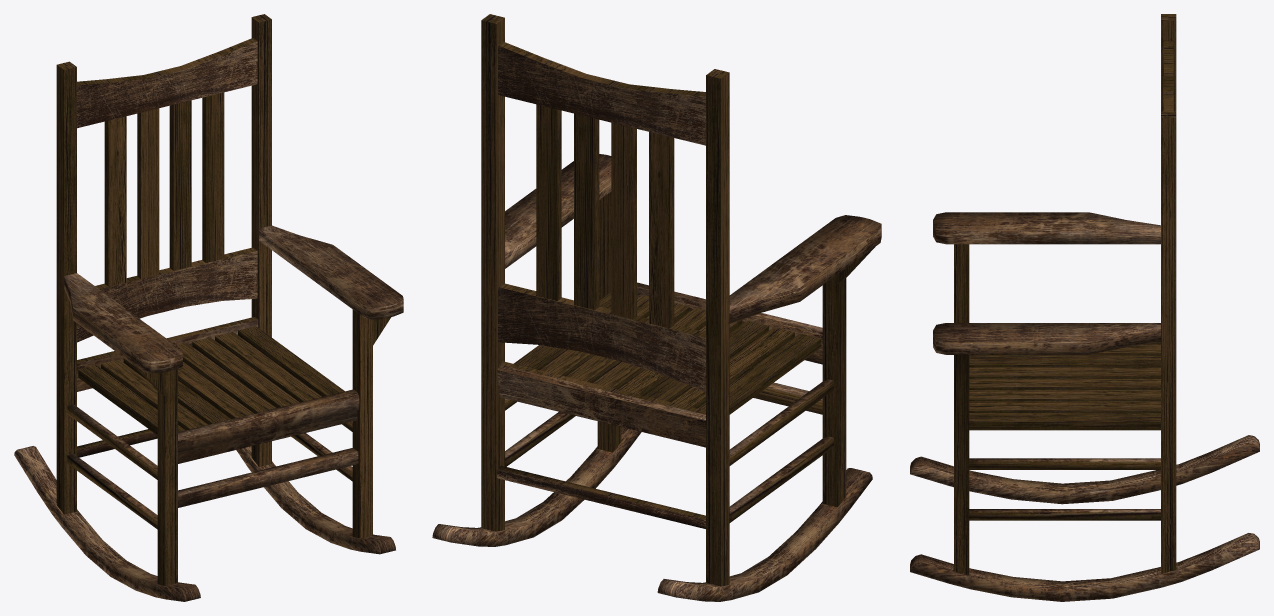
The model's file is chair.fbx.
The picture shows the model from 3 angles, left to right: view 1: azimuth 30°, elevation 25°; view 2: azimuth 150°, elevation 25°; view 3: azimuth 270°, elevation 25°; orthographic projection. The views are drawn at different scales.
Parts seen in each view (by area): view 1: chair; view 2: chair; view 3: chair.
Boxes of the visible parts, x1=… form: chair: x1=14, y1=14, x2=403, y2=601; chair: x1=432, y1=14, x2=881, y2=601; chair: x1=910, y1=14, x2=1259, y2=601.
Bounding box in the file's own units: 31.45 × 54.44 × 35.72.
1 material, 1 textured.
